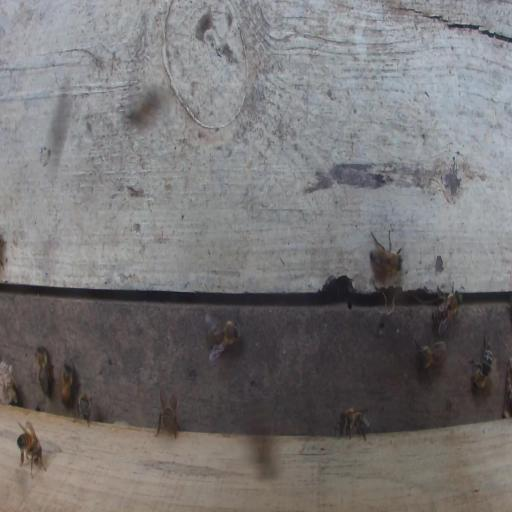bee: (203, 310, 243, 364), (16, 418, 47, 481), (367, 228, 404, 276), (432, 279, 461, 336), (334, 403, 372, 443), (154, 389, 183, 441), (469, 331, 492, 388), (414, 339, 448, 372), (36, 344, 56, 398), (58, 357, 75, 407), (73, 392, 93, 427)
